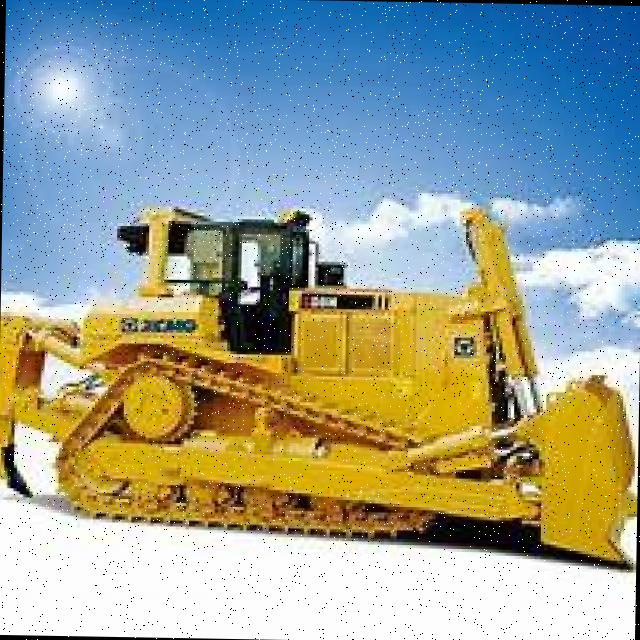Bulldozer: (0, 176, 640, 575)
